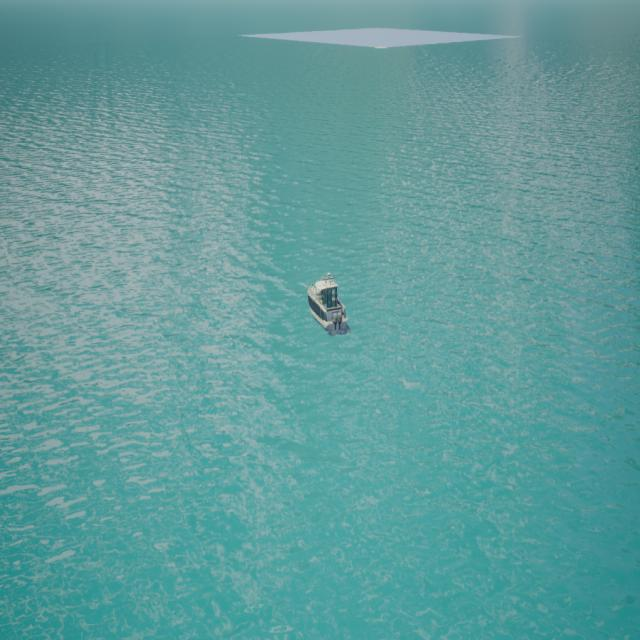ship: (304, 265, 352, 339)
